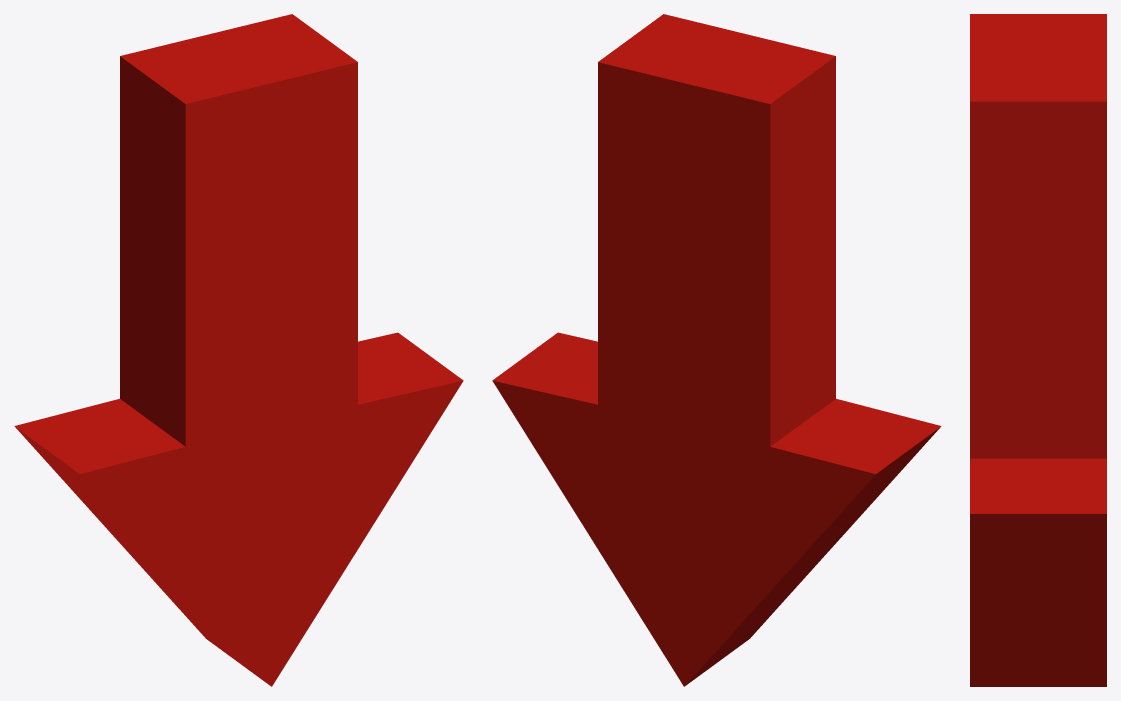
The model's file is Стрелочка.fbx.
3 renders of one model, left to right at view 1: azimuth 30°, elevation 25°; view 2: azimuth 150°, elevation 25°; view 3: azimuth 270°, elevation 25°, orthographic. The views are drawn at different scales.
Visible parts, largest first — view 1: Cube; view 2: Cube; view 3: Cube.
Boxes of the visible parts, box(x1,y1,x2,y2) form: Cube: box(14, 14, 463, 686); Cube: box(492, 14, 941, 686); Cube: box(970, 14, 1106, 686).
Size of the model in its own units: 234 by 352 by 69.53.
